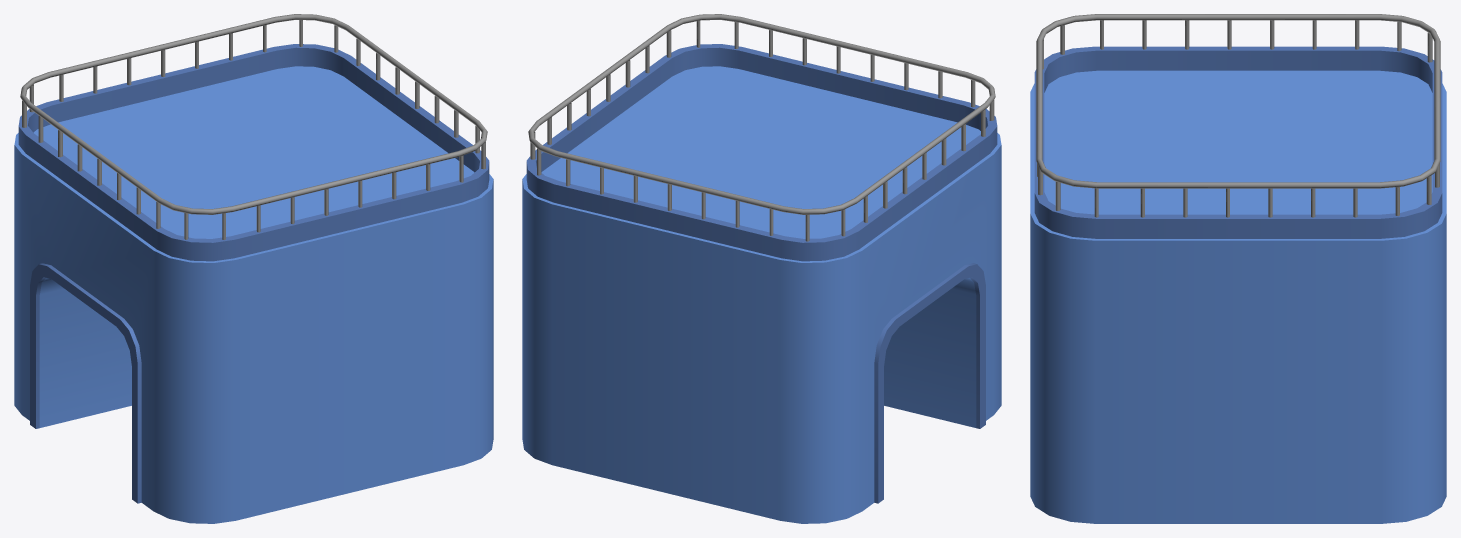
File: Factory_2 1.fbx
The picture shows the model from 3 angles, left to right: view 1: azimuth 30°, elevation 25°; view 2: azimuth 150°, elevation 25°; view 3: azimuth 270°, elevation 25°; orthographic projection. The views are drawn at different scales.
Parts seen in each view (by area): view 1: SM_Factory_2; view 2: SM_Factory_2; view 3: SM_Factory_2.
Boxes of the visible parts, <box> form: SM_Factory_2: <box>14,14,493,523</box>; SM_Factory_2: <box>522,14,1001,523</box>; SM_Factory_2: <box>1030,14,1446,523</box>.
Bounding box in the file's own units: 4.05 × 3.57 × 4.
